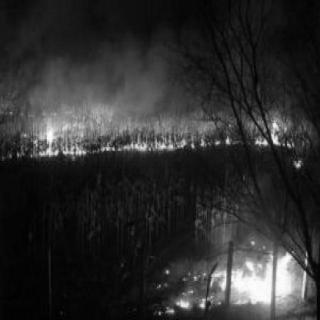Fire: (8, 106, 304, 153)
